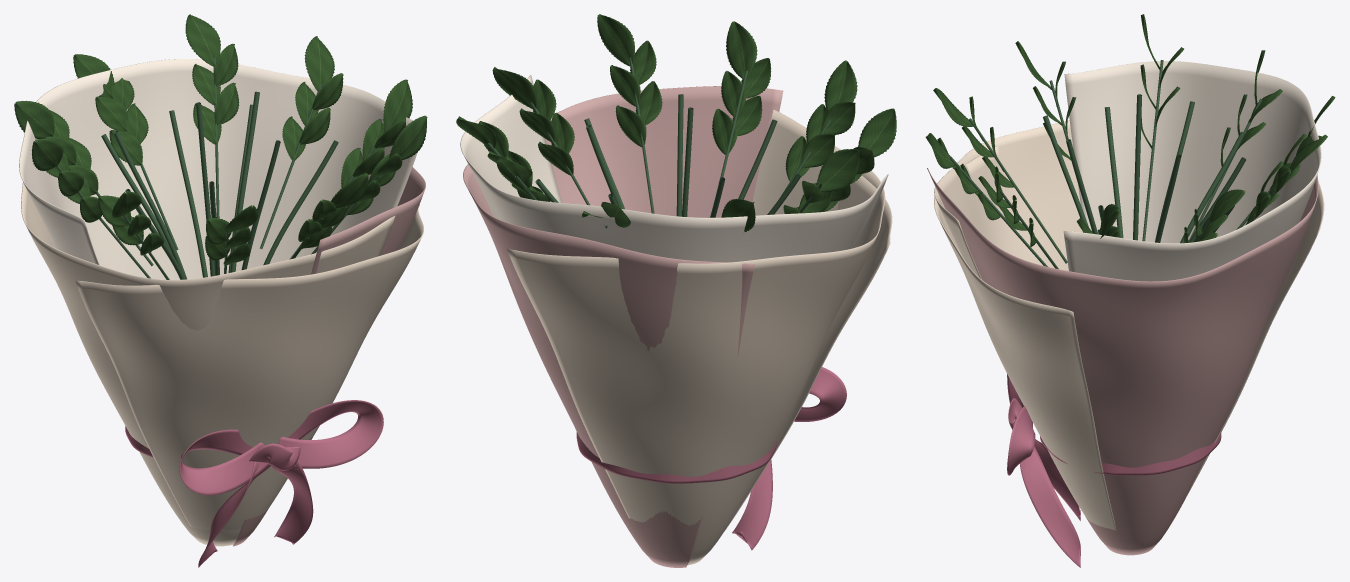
File: accessories.glb
3 renders of one model, left to right at view 1: azimuth 30°, elevation 25°; view 2: azimuth 150°, elevation 25°; view 3: azimuth 270°, elevation 25°, orthographic. The views are drawn at different scales.
Visible parts, largest first — view 1: Paper_Ivory_Right, Tissue_Back, Serrated_Leaf_00_0, Satin_Loop_-1, Stem_01, Paper_Blush_Left; view 2: Paper_Ivory_Right, Paper_Blush_Left, Serrated_Leaf_00_0, Tissue_Back, Satin_Loop_-1, Stem_01; view 3: Paper_Blush_Left, Tissue_Back, Paper_Ivory_Right, Serrated_Leaf_00_0, Stem_01, Satin_Loop_-1.
Boxes of the visible parts, bbox=[...] form: Paper_Ivory_Right: bbox=[21, 182, 423, 546]; Tissue_Back: bbox=[19, 59, 417, 279]; Serrated_Leaf_00_0: bbox=[14, 14, 427, 265]; Satin_Loop_-1: bbox=[125, 400, 383, 567]; Stem_01: bbox=[52, 57, 390, 279]; Paper_Blush_Left: bbox=[233, 167, 425, 546]; Paper_Ivory_Right: bbox=[507, 110, 892, 565]; Paper_Blush_Left: bbox=[463, 86, 783, 567]; Serrated_Leaf_00_0: bbox=[456, 14, 896, 231]; Tissue_Back: bbox=[460, 75, 888, 262]; Satin_Loop_-1: bbox=[576, 367, 846, 550]; Stem_01: bbox=[487, 57, 830, 228]; Paper_Blush_Left: bbox=[927, 168, 1318, 555]; Tissue_Back: bbox=[1063, 61, 1321, 281]; Paper_Ivory_Right: bbox=[934, 120, 1324, 530]; Serrated_Leaf_00_0: bbox=[925, 14, 1335, 246]; Stem_01: bbox=[950, 60, 1292, 269]; Satin_Loop_-1: bbox=[1007, 374, 1221, 567].
Bounding box in the file's own units: 2.14 × 2.44 × 2.05.
6 materials, 1 textured.
